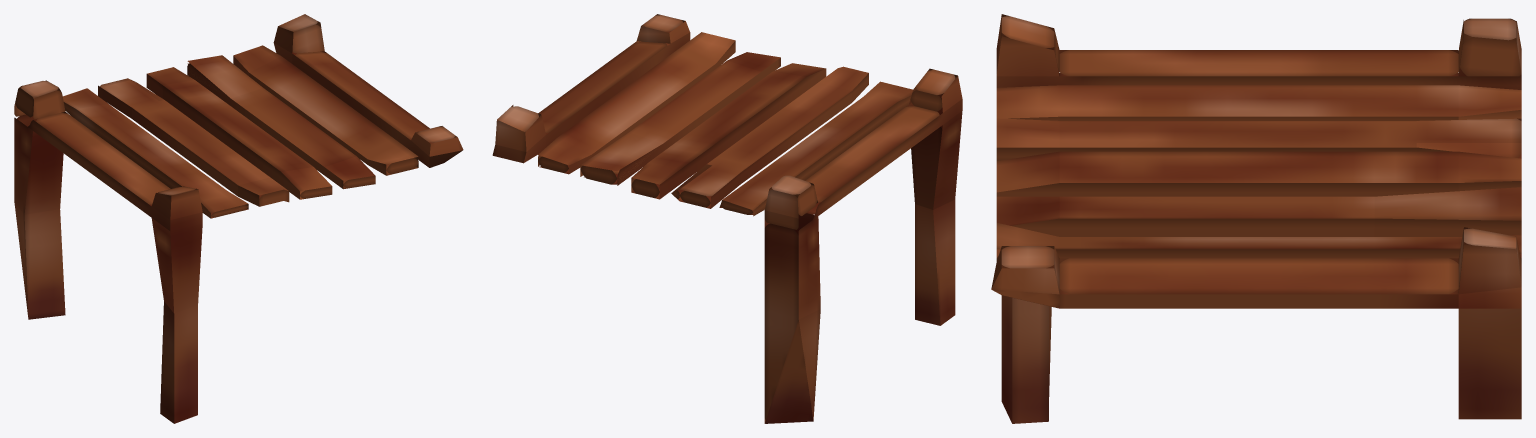
Rendered from Pier.fbx.
3 views of the same model, side by side, from view 1: azimuth 30°, elevation 25°; view 2: azimuth 150°, elevation 25°; view 3: azimuth 270°, elevation 25° (orthographic). The views are drawn at different scales.
Visible parts, largest first — view 1: Pier; view 2: Pier; view 3: Pier.
Boxes of the visible parts, <box> form: Pier: <box>14,14,463,423</box>; Pier: <box>492,14,962,423</box>; Pier: <box>991,14,1521,423</box>.
Bounding box in the file's own units: 172 × 128 × 158.
Materials: 1 (1 with a texture image).
